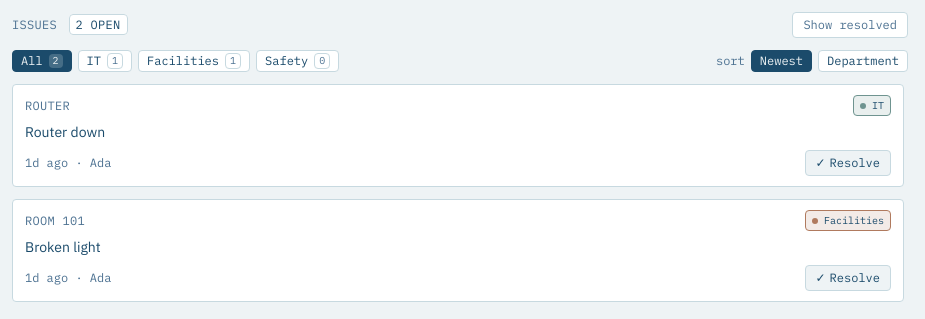
Test case: IssuesPanel › filters cards by Department chip and restores with All
Click the button "IT 1": (105, 61) 78,50 -> 132,72
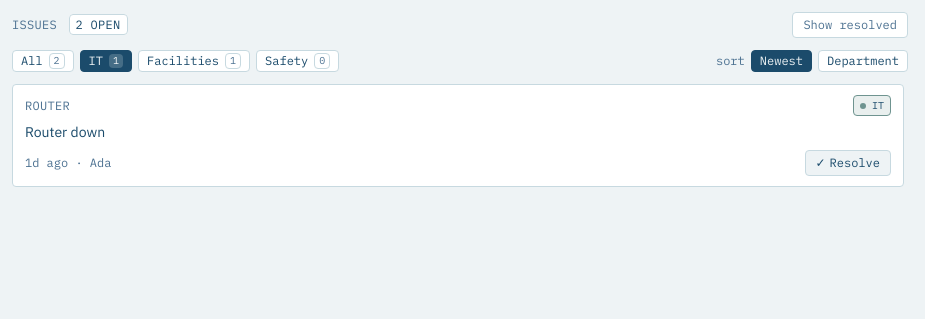
Expected: the text "Router down" is shown, 25,123 -> 105,141
Expected: the button "Broken light" is gone
Click the button "All 2": (43, 61) 12,50 -> 74,72
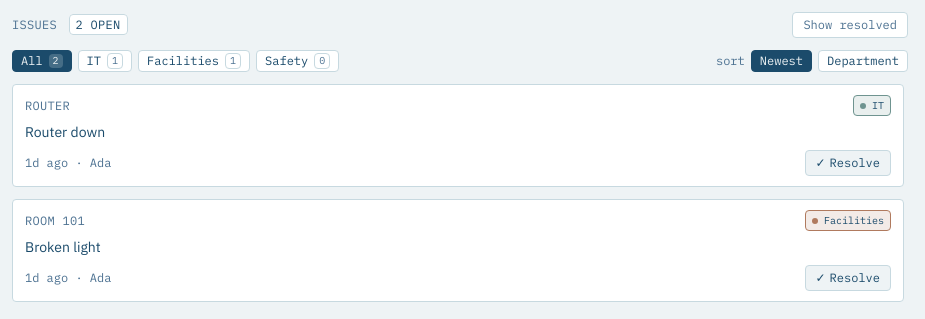
Expected: the text "Router down" is shown, 25,123 -> 105,141
Expected: the text "Broken light" is shown, 25,238 -> 101,256
